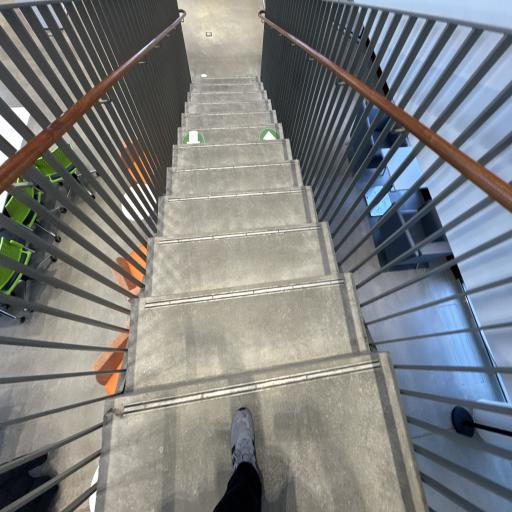Stairs: (96, 77, 427, 512)
